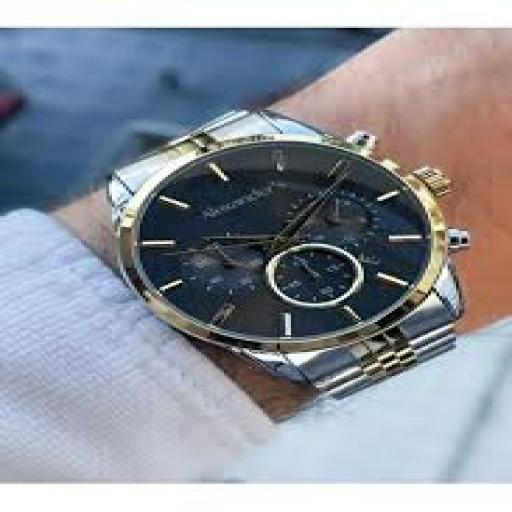KolSaati: (72, 91, 512, 409)
